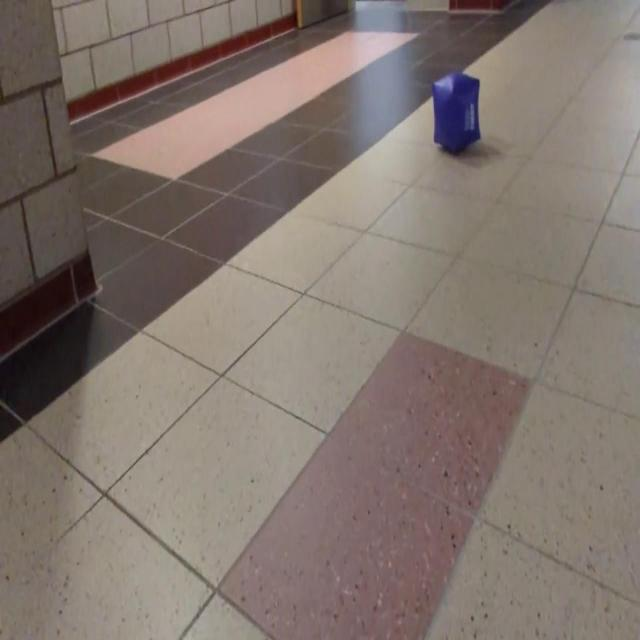frc_cube: (432, 73, 480, 155)
